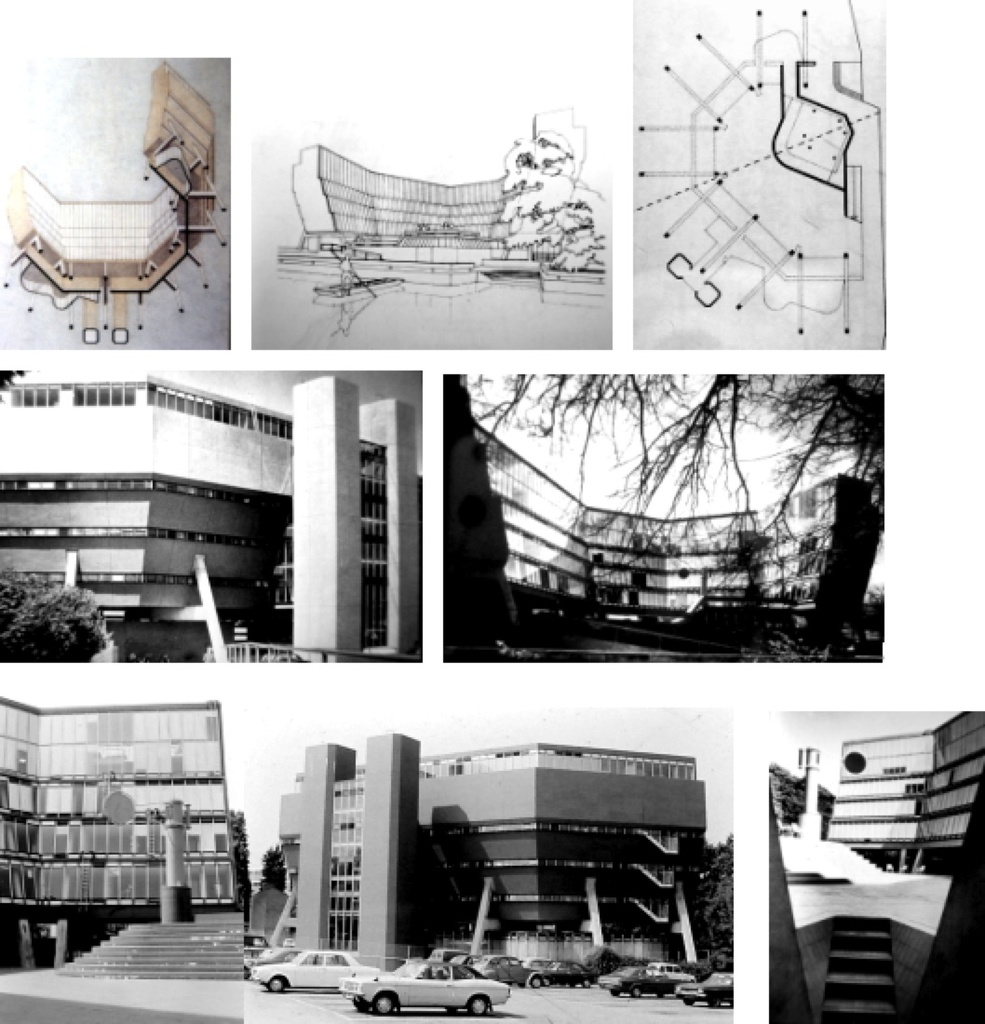cars: (341, 950, 508, 1013), (252, 946, 378, 990), (482, 942, 540, 994), (597, 965, 672, 995), (537, 956, 597, 986), (677, 976, 735, 1001), (239, 952, 304, 970), (663, 962, 697, 979)
